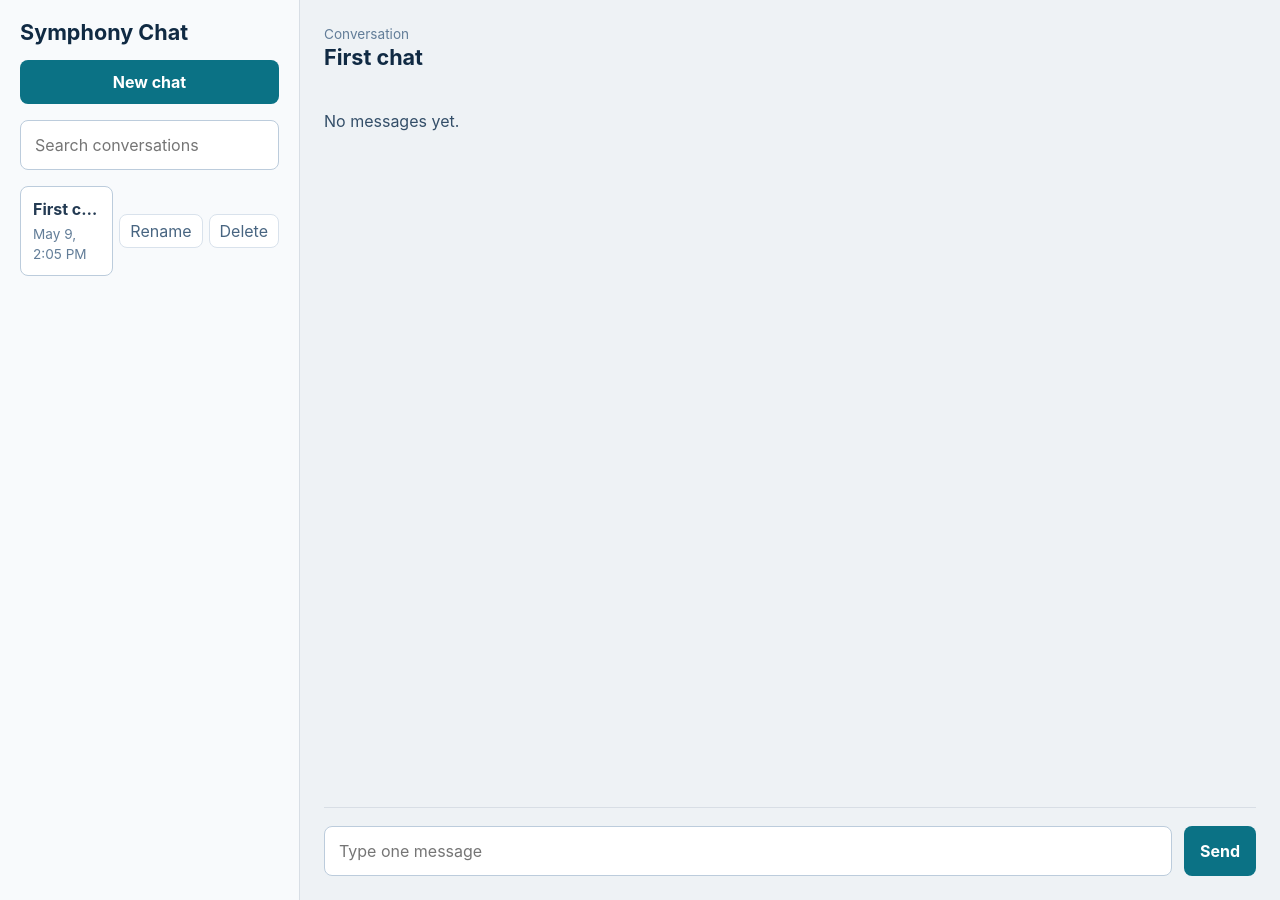
App › sends a message with conversation_id and renders the persisted echo response
The image size is (1280, 900).
Check: the text "No messages yet." is shown, box [324, 111, 459, 131]
Type "hello" into the field labelled "message" at (748, 851), box [324, 826, 1172, 876]
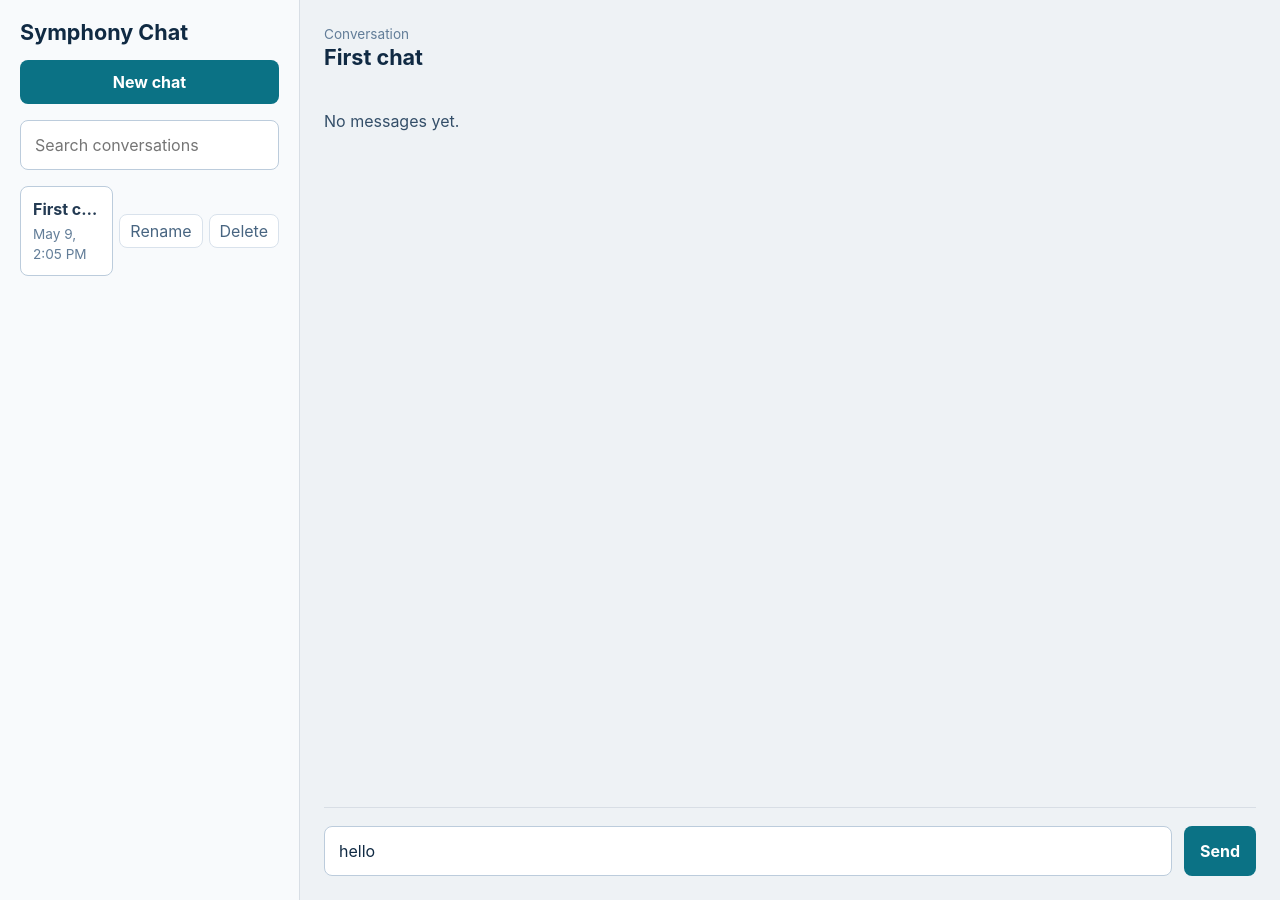
Click the button "Send" at (1220, 851), box [1184, 826, 1256, 876]
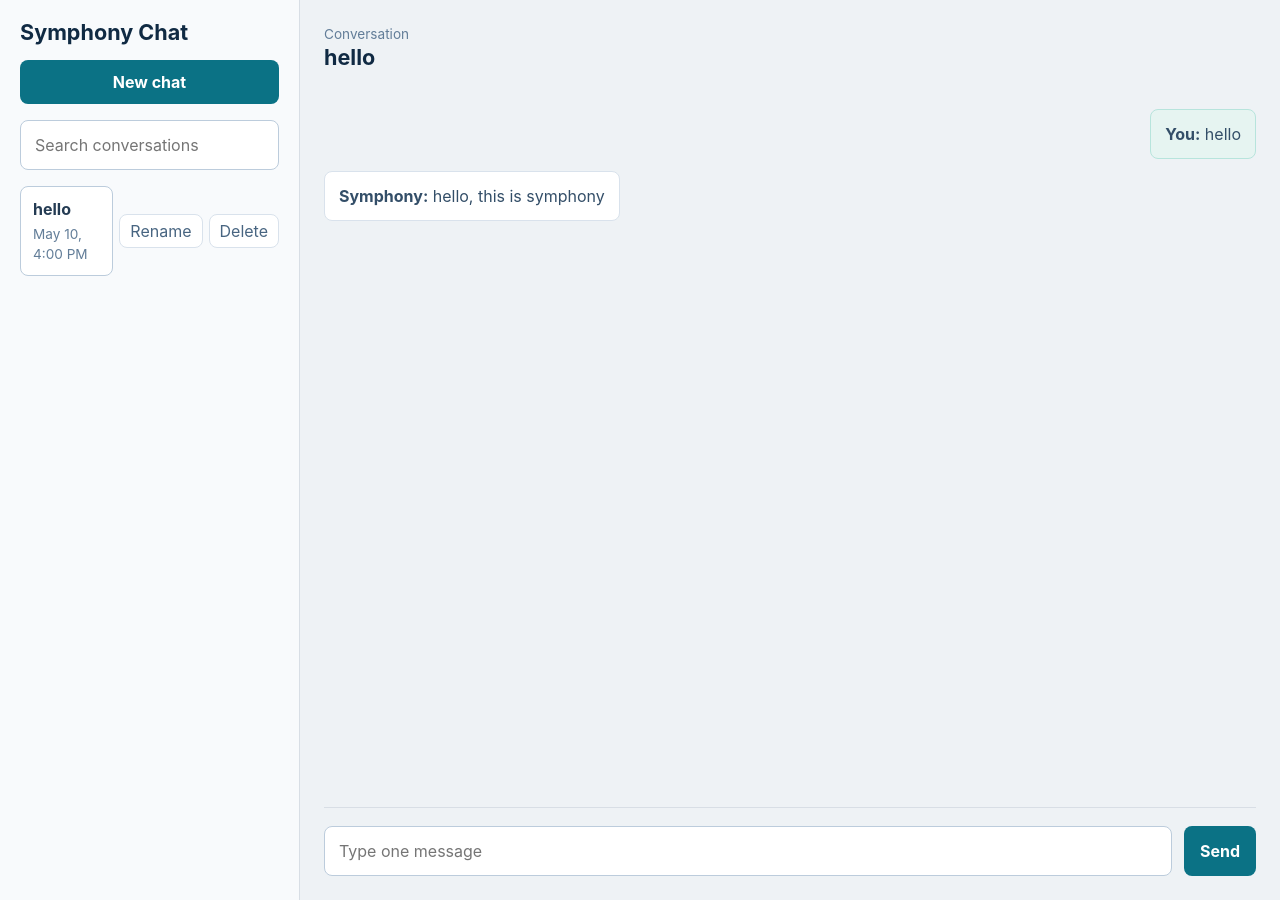
Check: the text "hello, this is symphony" is shown, box [433, 186, 605, 206]
Check: the text "hello" is shown, box [33, 199, 71, 219]
